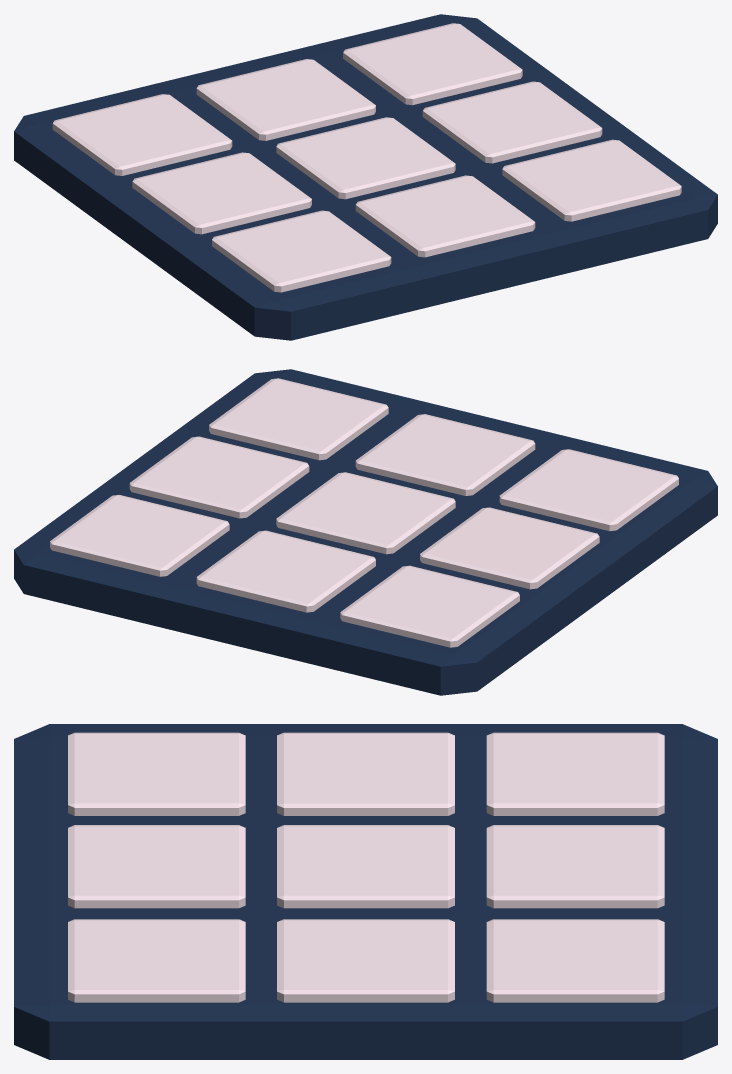
File: tiktak.glb
3 renders of one model, top to bottom at view 1: azimuth 30°, elevation 25°; view 2: azimuth 150°, elevation 25°; view 3: azimuth 270°, elevation 25°, orthographic. The views are drawn at different scales.
Visible parts, largest first — view 1: board, Cube.004, Cube.009, Cube.002, Cube, Cube.006, Cube.008, Cube.007, Cube.005, Cube.003; view 2: board, Cube.004, Cube.002, Cube.007, Cube.005, Cube, Cube.009, Cube.006, Cube.008, Cube.003; view 3: board, Cube.009, Cube.007, Cube.008, Cube.003, Cube.005, Cube.004, Cube, Cube.002, Cube.006.
Boxes of the visible parts, bbox=[...] form: board: bbox=[14, 14, 717, 340]; Cube.004: bbox=[355, 175, 535, 257]; Cube.009: bbox=[52, 94, 232, 175]; Cube.002: bbox=[422, 81, 602, 163]; Cube: bbox=[276, 117, 455, 199]; Cube.006: bbox=[212, 210, 391, 292]; Cube.008: bbox=[343, 23, 522, 105]; Cube.007: bbox=[196, 59, 375, 140]; Cube.005: bbox=[502, 139, 681, 221]; Cube.003: bbox=[132, 152, 311, 234]; board: bbox=[14, 369, 717, 695]; Cube.004: bbox=[355, 414, 535, 495]; Cube.002: bbox=[129, 436, 309, 518]; Cube.007: bbox=[196, 530, 375, 612]; Cube.005: bbox=[209, 378, 388, 460]; Cube: bbox=[276, 472, 455, 554]; Cube.009: bbox=[340, 565, 519, 647]; Cube.006: bbox=[499, 449, 678, 531]; Cube.008: bbox=[50, 495, 229, 576]; Cube.003: bbox=[420, 507, 599, 589]; board: bbox=[14, 724, 717, 1059]; Cube.009: bbox=[486, 732, 664, 815]; Cube.007: bbox=[486, 825, 664, 908]; Cube.008: bbox=[486, 919, 664, 1002]; Cube.003: bbox=[277, 732, 454, 815]; Cube.005: bbox=[68, 919, 245, 1002]; Cube.004: bbox=[68, 825, 245, 908]; Cube: bbox=[277, 825, 454, 908]; Cube.002: bbox=[277, 919, 454, 1002]; Cube.006: bbox=[68, 732, 245, 815].
Size of the model in its own units: 10.24 by 0.8398 by 10.24.
